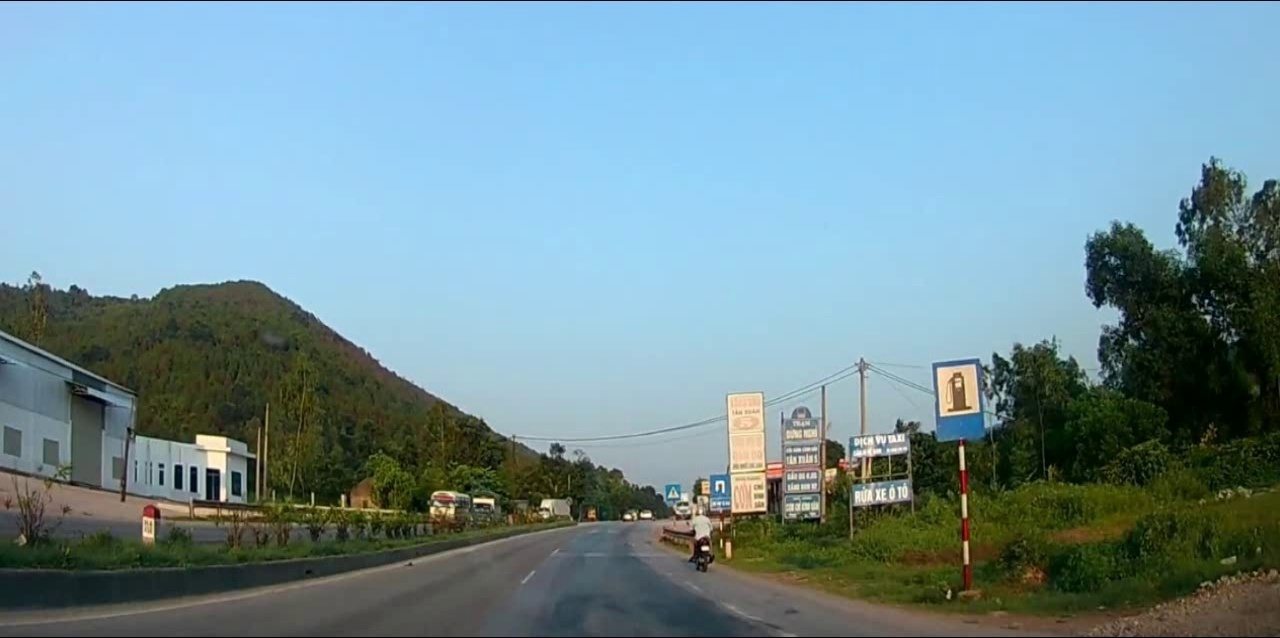Bien khac: (931, 357, 984, 441), (708, 475, 728, 510)
Nguoi di bo: (663, 481, 682, 504)
